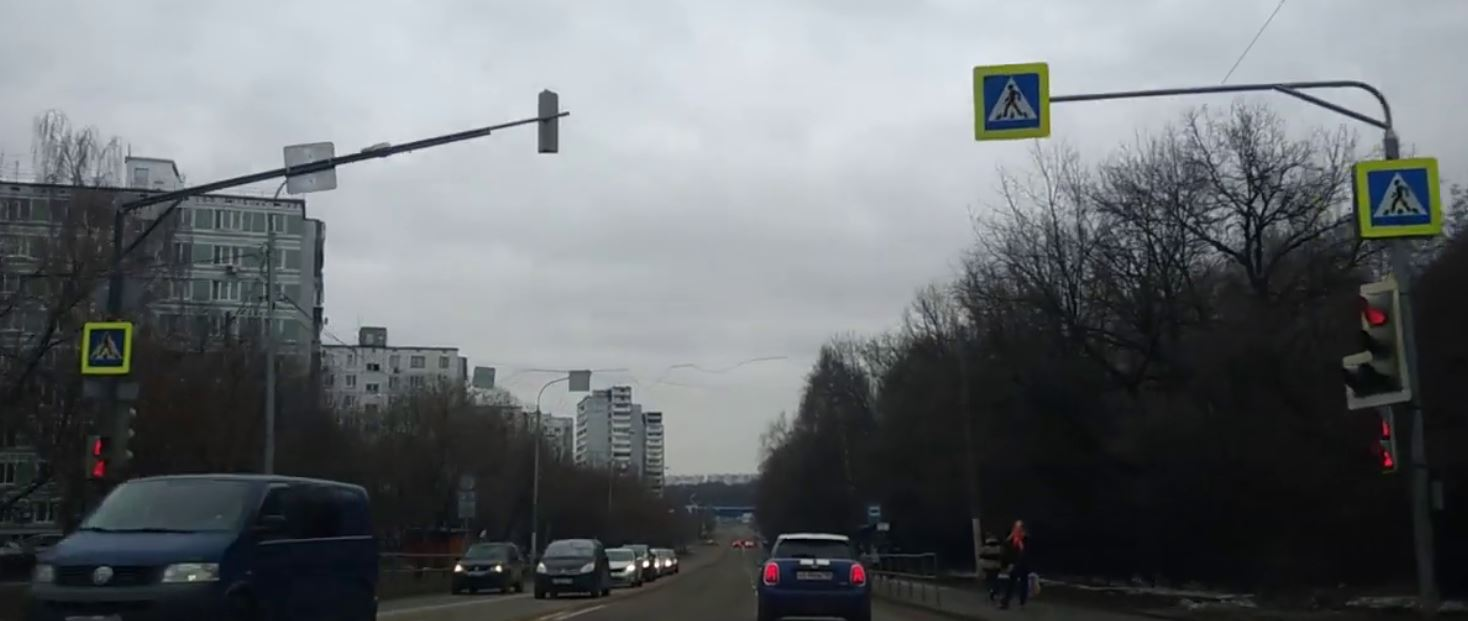Yaya Gecidi: (980, 74, 1041, 132), (1369, 173, 1438, 221), (89, 328, 130, 370)
